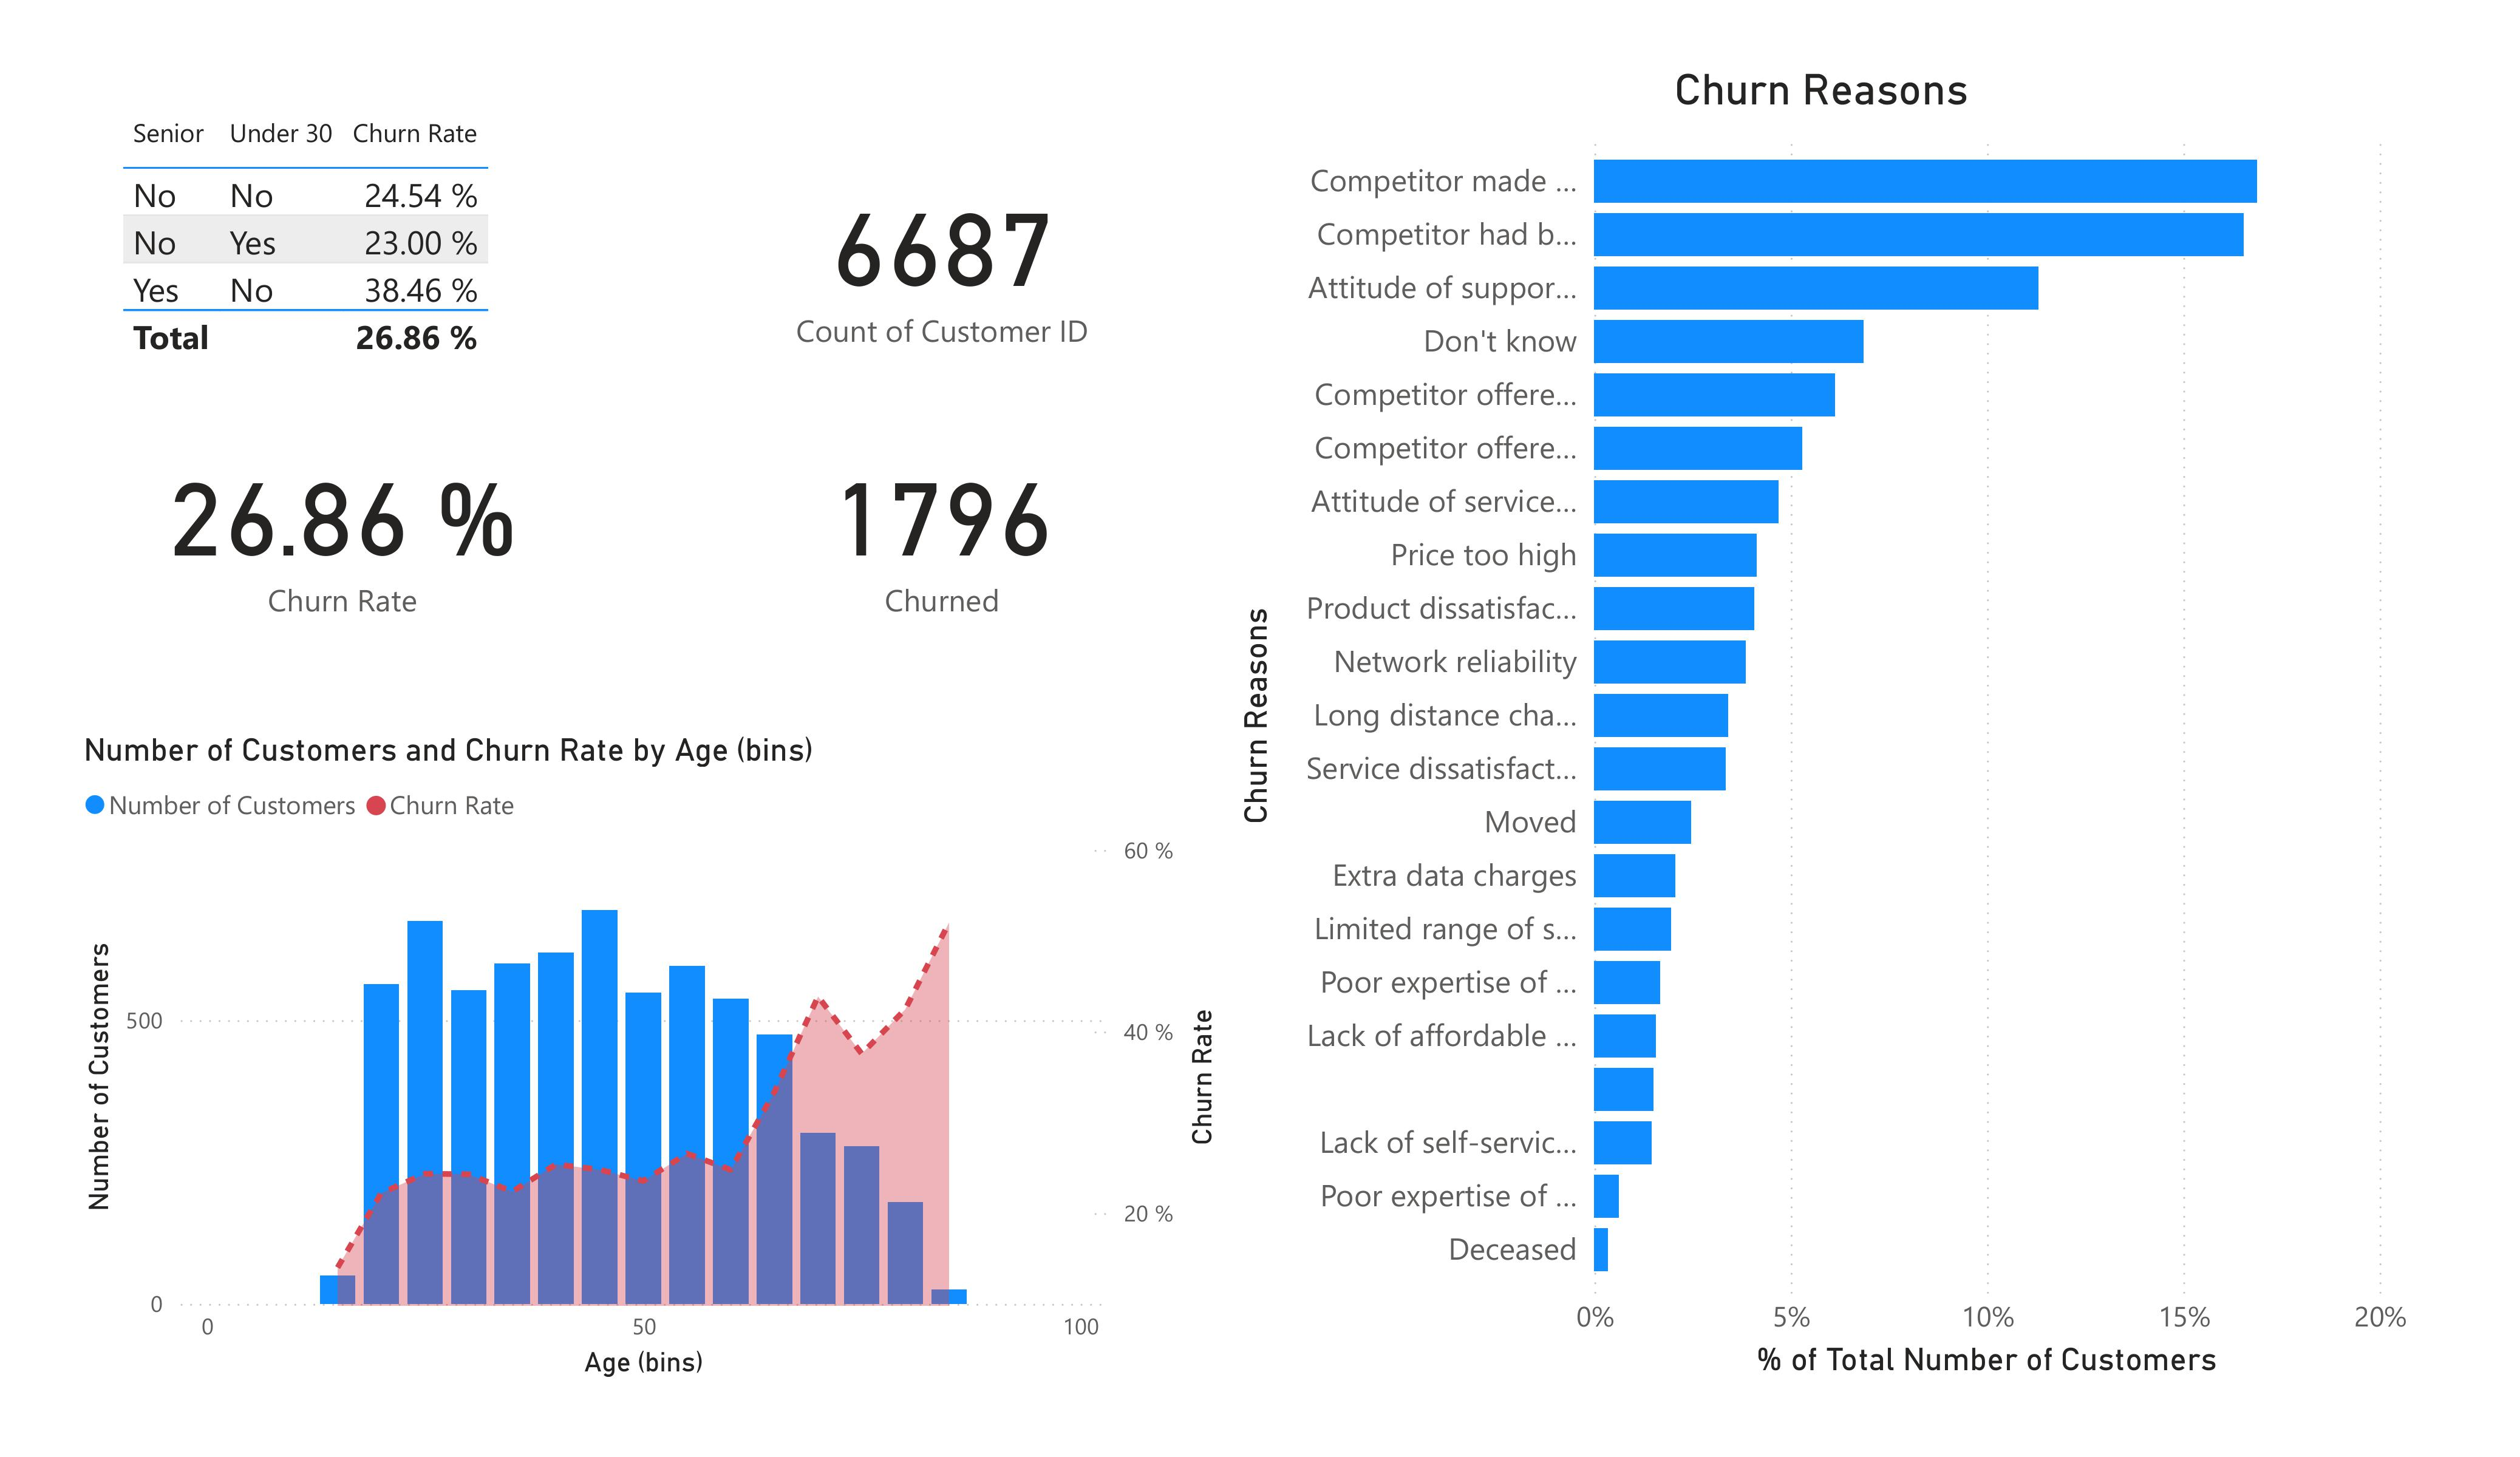

Layout of this report page (visuals, bound fields, positions):
{"tool":"powerbi","page":{"name":"Churn Demographics","canvas":[1280,720],"ordinal":0},"visuals":[{"type":"tableEx","fields":{"Values":["Databel - Data.Senior","Databel - Data.Under 30","Databel - Data.Churn Rate"]},"box":[35.2,30.8,280.1,161.3],"z":0},{"type":"clusteredBarChart","title":"Churn Reasons","fields":{"Category":["Databel - Data.Churn Reason"],"Y":["CountNonNull(Databel - Data.Number of Customers in Group)"]},"box":[623.2,10.3,626.2,696.5],"z":1000},{"type":"card","fields":{"Values":["Databel - Data.Churn Rate"]},"box":[51.3,192.1,211.2,123.2],"z":2000},{"type":"lineStackedColumnComboChart","fields":{"Category":["Databel - Data.Age (bins)"],"Y":["Databel - Data.Number of costumers"],"Y2":["Databel - Data.Churn Rate"]},"box":[14.7,360.7,608.6,346.1],"z":3000},{"type":"card","fields":{"Values":["Count(Databel - Data.Customer ID)"]},"box":[366.6,49.9,211.2,123.2],"z":4000},{"type":"card","fields":{"Values":["Sum(Databel - Data.Churned)"]},"box":[366.6,192.1,211.2,123.2],"z":5000}]}

Visuals, with their boxes in screenshot pixels (x1, y1, x2, y2):
tableEx - Databel - Data.Senior x Databel - Data.Under 30: region(112, 104, 644, 410)
"Churn Reasons" clusteredBarChart: region(1228, 65, 2416, 1387)
card - Databel - Data.Churn Rate: region(143, 410, 543, 644)
lineStackedColumnComboChart - Databel - Data.Age (bins) x Databel - Data.Number of costumers: region(73, 730, 1228, 1387)
card - Count(Databel - Data.Customer ID): region(741, 140, 1142, 374)
card - Sum(Databel - Data.Churned): region(741, 410, 1142, 644)
